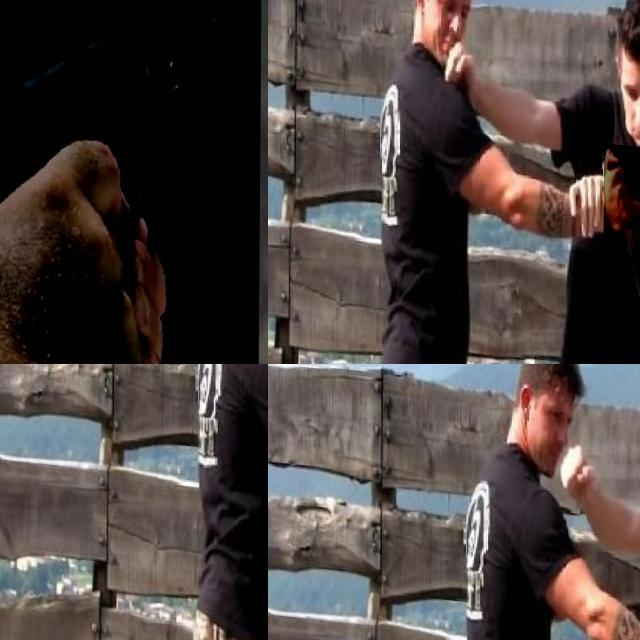-: (603, 133, 640, 312)
gun-knife-thesis - v11 Yolov5 augmented: (0, 0, 261, 364)
